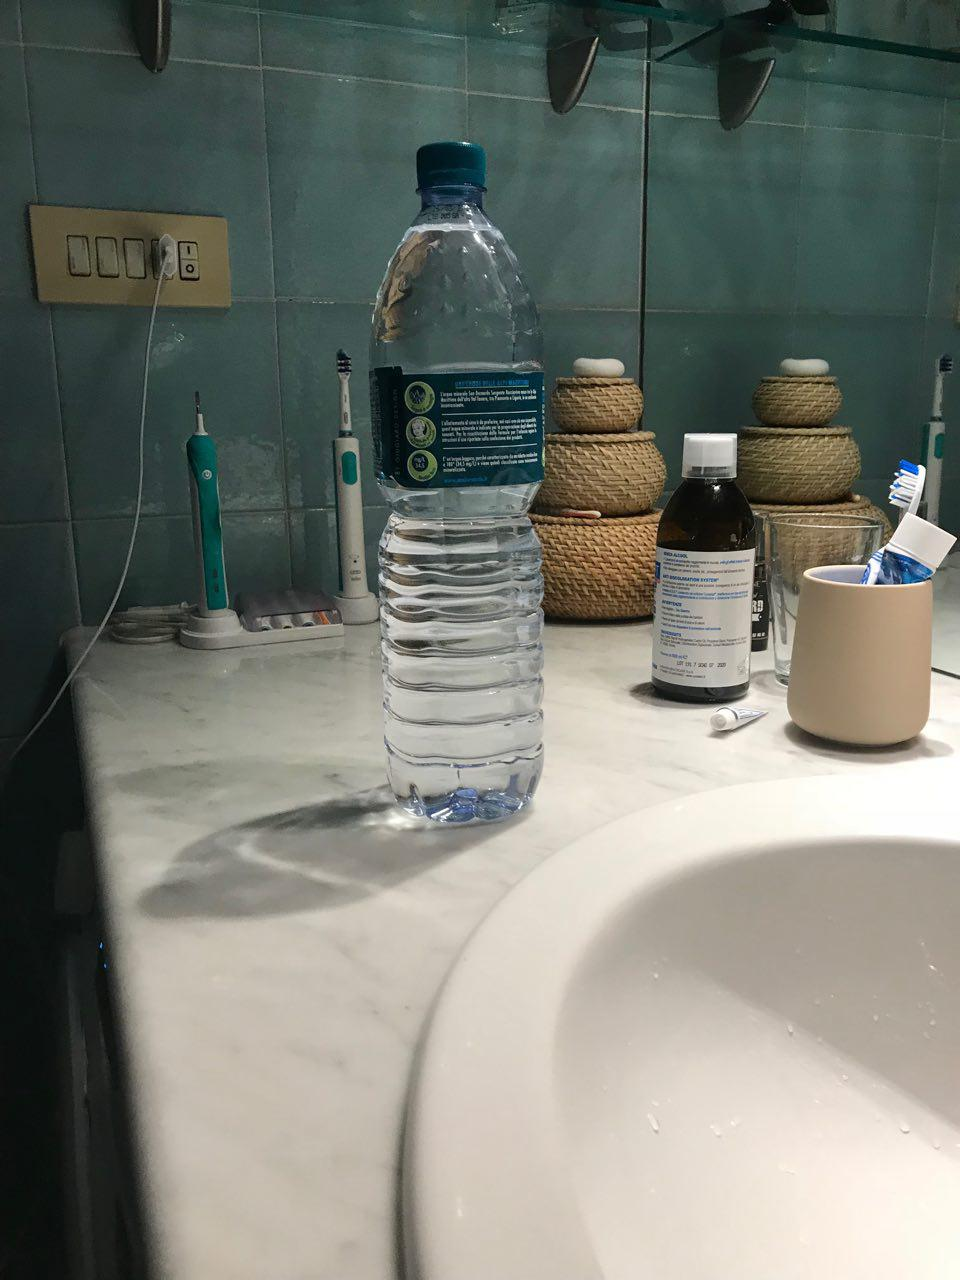san_bernardo: (367, 141, 546, 824)
